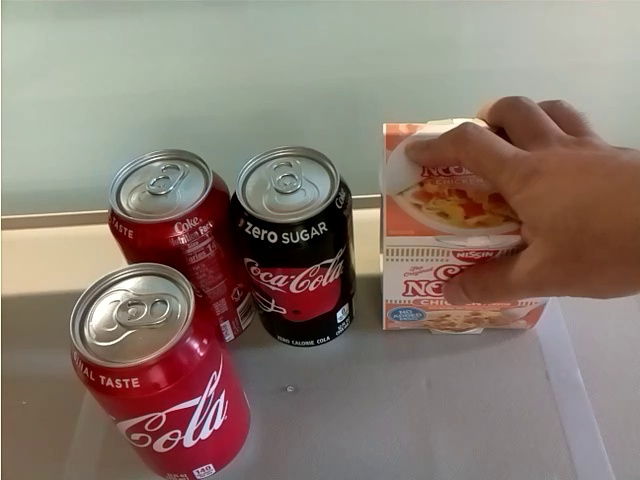cocacola: (66, 260, 253, 480), (103, 149, 253, 347), (235, 143, 359, 350)
hand: (399, 96, 640, 305)
noodles: (378, 118, 551, 338)
